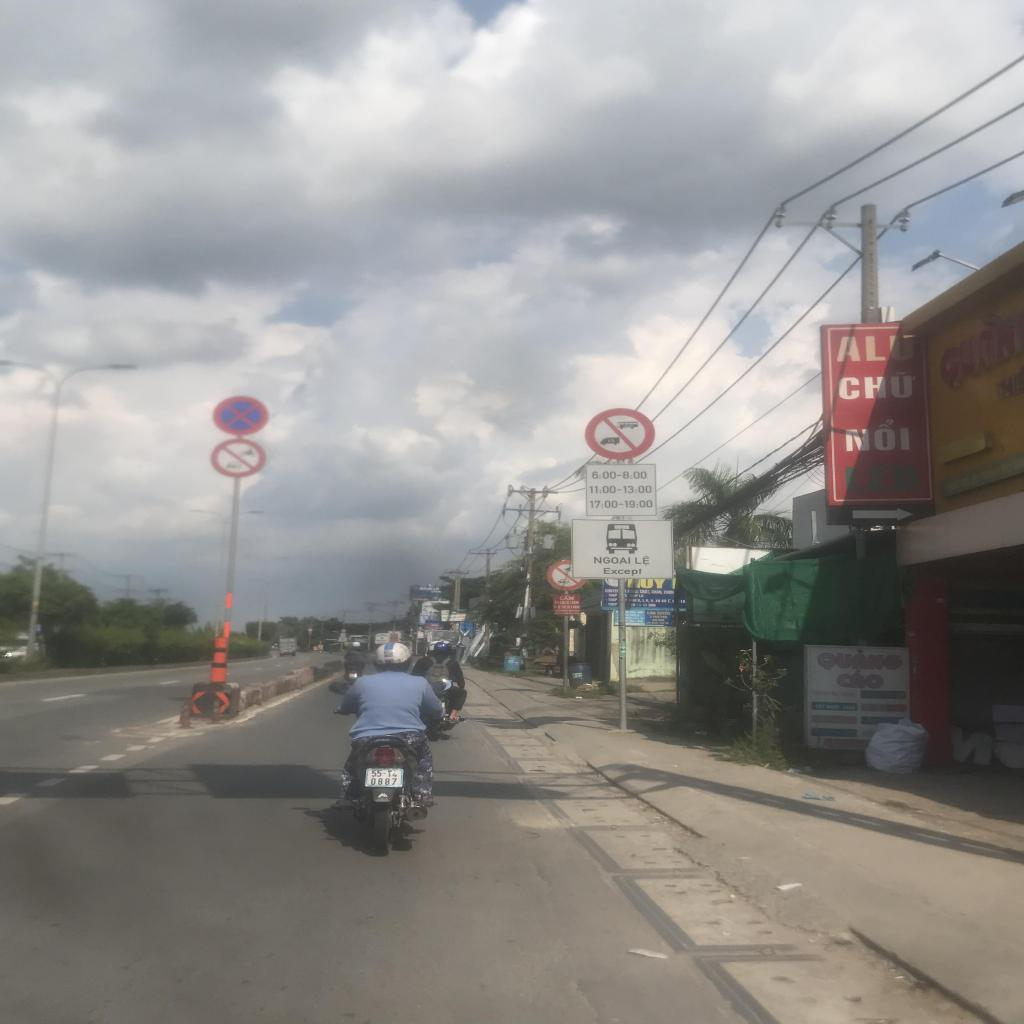cam_cac_loai_xe_3_banh: (547, 560, 586, 590)
cam_dung_xe_va_do_xe: (214, 396, 269, 435)
cam_o_to_tai_va_xe_khach: (586, 409, 655, 459)
cam_xe_2_banh_va_xe_3_banh_co_dong_co: (211, 439, 266, 479)
khac: (570, 520, 674, 580), (585, 463, 658, 516)
